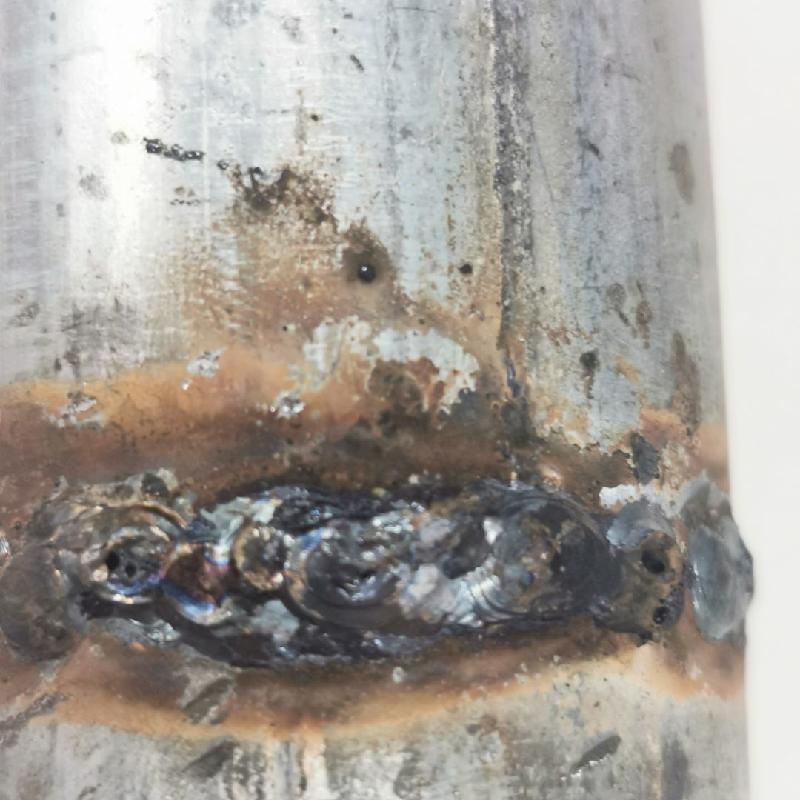Surface_pores: (84, 539, 154, 593), (630, 526, 681, 596)
crater: (78, 513, 397, 636)
wrong_size: (388, 500, 748, 637)
